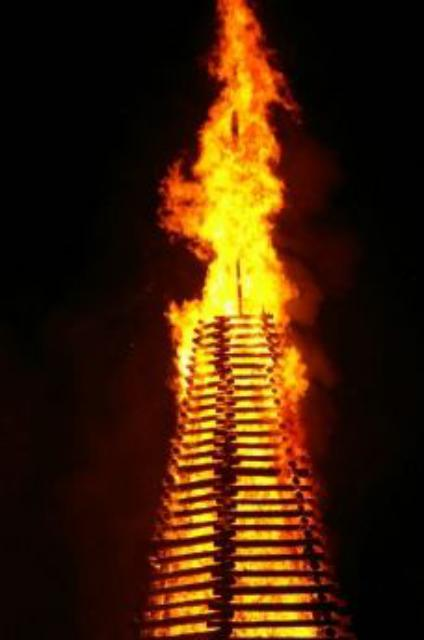fire: (163, 162, 281, 238), (202, 234, 276, 312), (200, 91, 266, 172), (209, 0, 253, 78), (226, 57, 274, 109), (168, 299, 194, 375), (274, 346, 300, 399)
